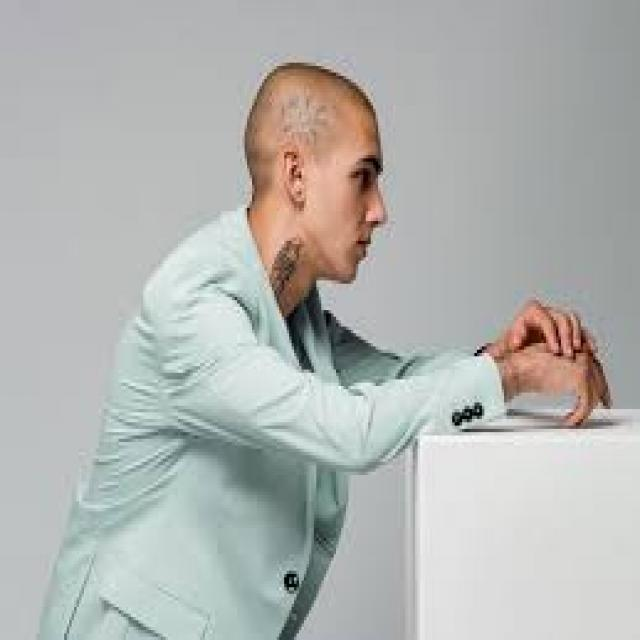bald: (232, 50, 383, 162)
